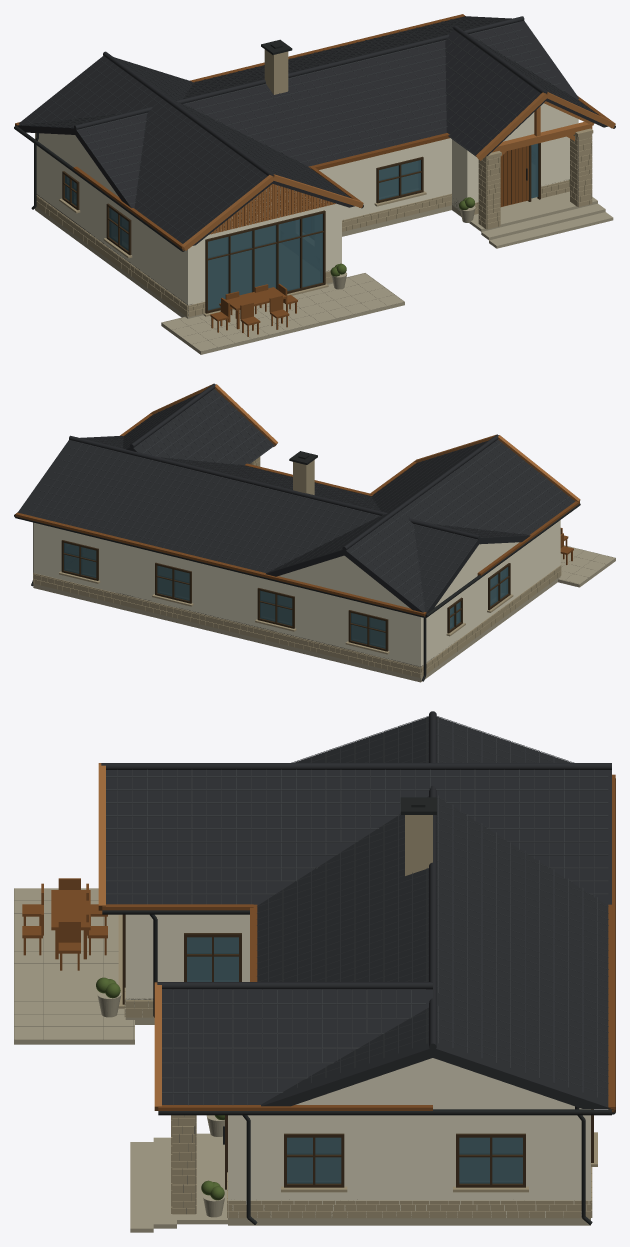
The model's file is house.glb.
3 renders of one model, top to bottom at view 1: azimuth 30°, elevation 25°; view 2: azimuth 150°, elevation 25°; view 3: azimuth 270°, elevation 25°, orthographic. The views are drawn at different scales.
Visible parts, largest first — view 1: Spojena sedlova strecha, Cleneni stresnich tasek, Obvodove zdivo s otvory, Terasa, Velke francouzske dvere sklo, Svisle drevene oblozeni stitu, Hrebenac001, Velke francouzske dvere ram, Sokl leva strana, Vstupni stupen 2, Vstupni dvere drevo, Zakladova deska (+26 smaller); view 2: Spojena sedlova strecha, Obvodove zdivo s otvory, Cleneni stresnich tasek, Sokl zadni, Uzavreni_stitu_a_podkrovi, Zakladova deska, Okapove prkno001, Hrebenac001, Sokl leva strana, Terasa, Hrebenac, Okap zlab003 (+16 smaller); view 3: Spojena sedlova strecha, Cleneni stresnich tasek, Obvodove zdivo s otvory, Terasa, Sokl prava strana, Uzavreni_stitu_a_podkrovi, Hrebenac, Zakladova deska, Prave zadni okno sklo, Okap zlab002, Bocni okno vpravo sklo, Kamen sloupu 1right (+19 smaller).
Boxes of the visible parts, x1,y1,x2,y2 form: Spojena sedlova strecha: (16, 16, 608, 245); Cleneni stresnich tasek: (18, 17, 596, 241); Obvodove zdivo s otvory: (35, 114, 578, 316); Terasa: (161, 273, 404, 354); Velke francouzske dvere sklo: (208, 213, 322, 310); Svisle drevene oblozeni stitu: (209, 184, 335, 234); Hrebenac001: (74, 16, 524, 129); Velke francouzske dvere ram: (205, 210, 325, 313); Sokl leva strana: (36, 195, 187, 316); Vstupni stupen 2: (469, 191, 597, 231); Vstupni dvere drevo: (500, 146, 528, 206); Zakladova deska: (35, 197, 537, 318); Spojena sedlova strecha: (18, 388, 574, 613); Obvodove zdivo s otvory: (33, 520, 560, 677); Cleneni stresnich tasek: (27, 389, 572, 612); Sokl zadni: (33, 573, 420, 677); Uzavreni_stitu_a_podkrovi: (286, 543, 507, 602); Zakladova deska: (33, 576, 560, 682); Okapove prkno001: (15, 512, 426, 616); Hrebenac001: (69, 435, 480, 539); Sokl leva strana: (421, 565, 561, 677); Terasa: (558, 545, 615, 587); Hrebenac: (342, 434, 498, 550); Okap zlab003: (15, 516, 425, 617); Spojena sedlova strecha: (106, 716, 611, 1108); Cleneni stresnich tasek: (106, 716, 608, 1105); Obvodove zdivo s otvory: (125, 914, 590, 1217); Terasa: (14, 888, 134, 1044); Sokl prava strana: (228, 1200, 590, 1218); Uzavreni_stitu_a_podkrovi: (308, 1058, 556, 1100); Hrebenac: (101, 763, 611, 769); Zakladova deska: (125, 1017, 590, 1225); Prave zadni okno sklo: (459, 1137, 522, 1183); Okap zlab002: (158, 1109, 611, 1115); Bocni okno vpravo sklo: (287, 1137, 341, 1183); Kamen sloupu 1right: (172, 1115, 195, 1214).
Bounding box in the file's own units: 17.44 × 5.95 × 12.93.
